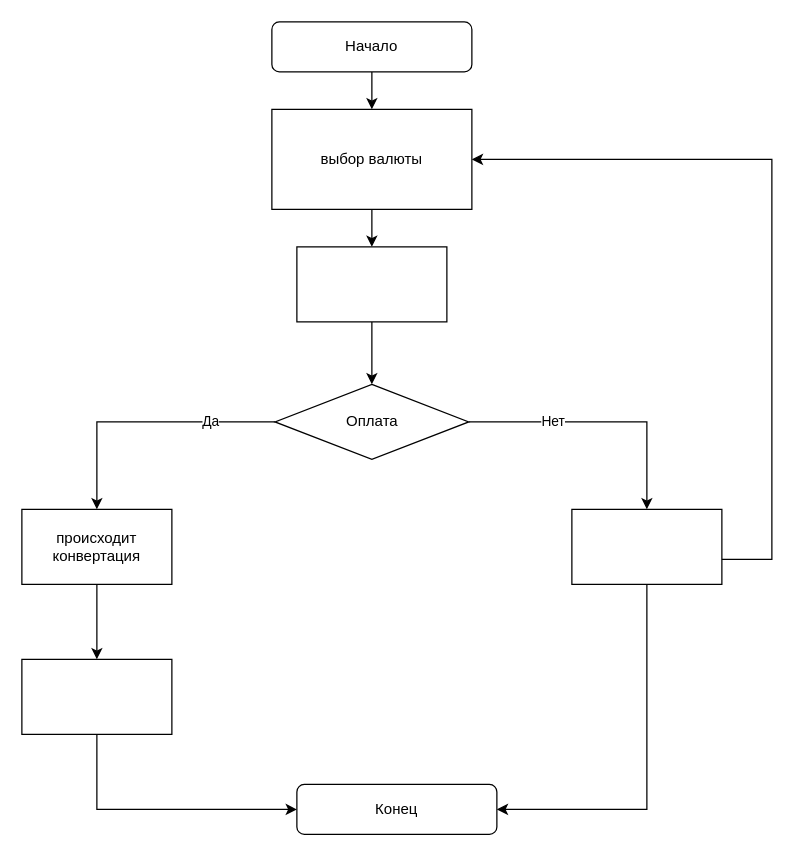
The diagram is 804 pixels wide and 856 high, and some of its shapes have lost their labels. Here are the shapes that lost their labels. From the top down, the centre of each, then its label:
(x=371, y=284): Оправка заявки
(x=646, y=546): выводит ошибку
(x=96, y=696): Отправка на кошелек пользователя
